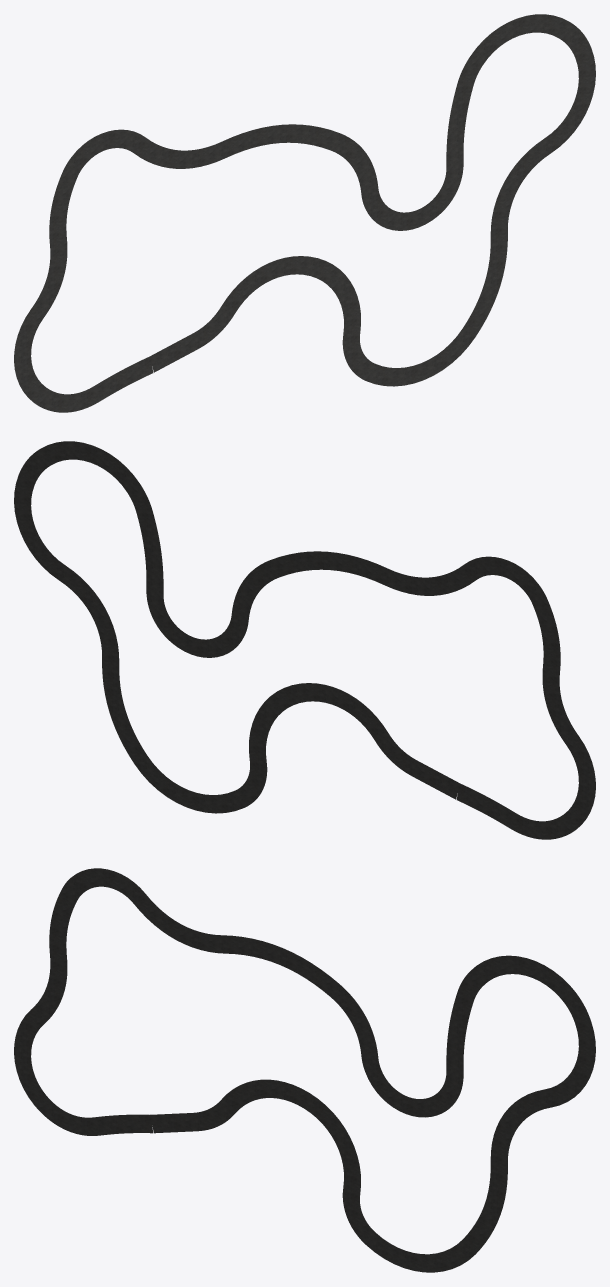
File: track4_road.obj
The picture shows the model from 3 angles, top to bottom: view 1: azimuth 30°, elevation 25°; view 2: azimuth 150°, elevation 25°; view 3: azimuth 330°, elevation 25°; orthographic projection.
Visible parts, largest first — view 1: road_0_curve_.003; view 2: road_0_curve_.003; view 3: road_0_curve_.003.
Part boxes in pixels (x1,y1,x2,y2): road_0_curve_.003: [14, 14, 595, 412]; road_0_curve_.003: [14, 441, 595, 839]; road_0_curve_.003: [14, 868, 595, 1272].
Bounding box in the file's own units: 55.58 × 31.06 × 0.
Materials: 1 (1 with a texture image).
